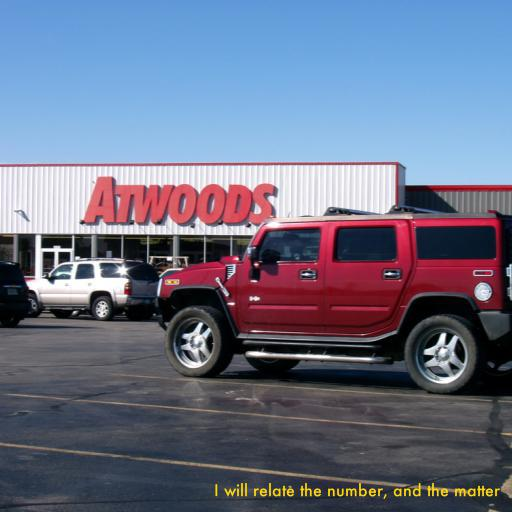Futura: (214, 483, 500, 500)
